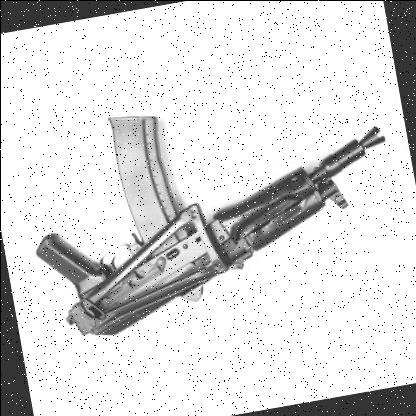rifle: (4, 58, 415, 364)
